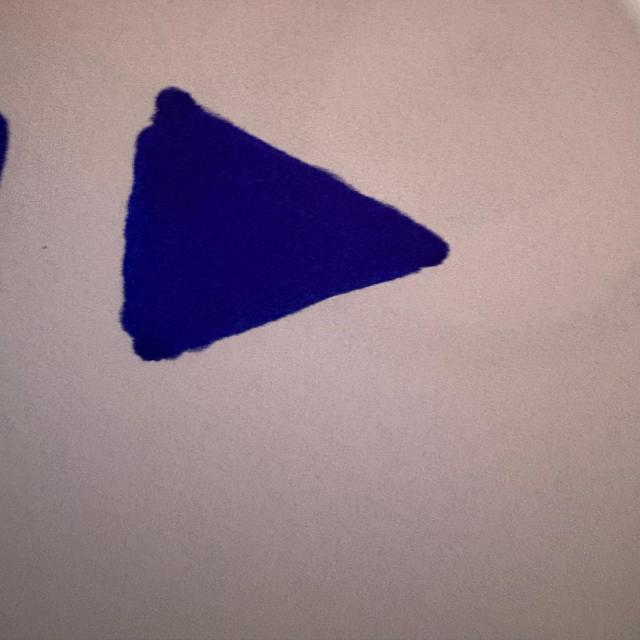Triangle: (108, 76, 466, 375)
